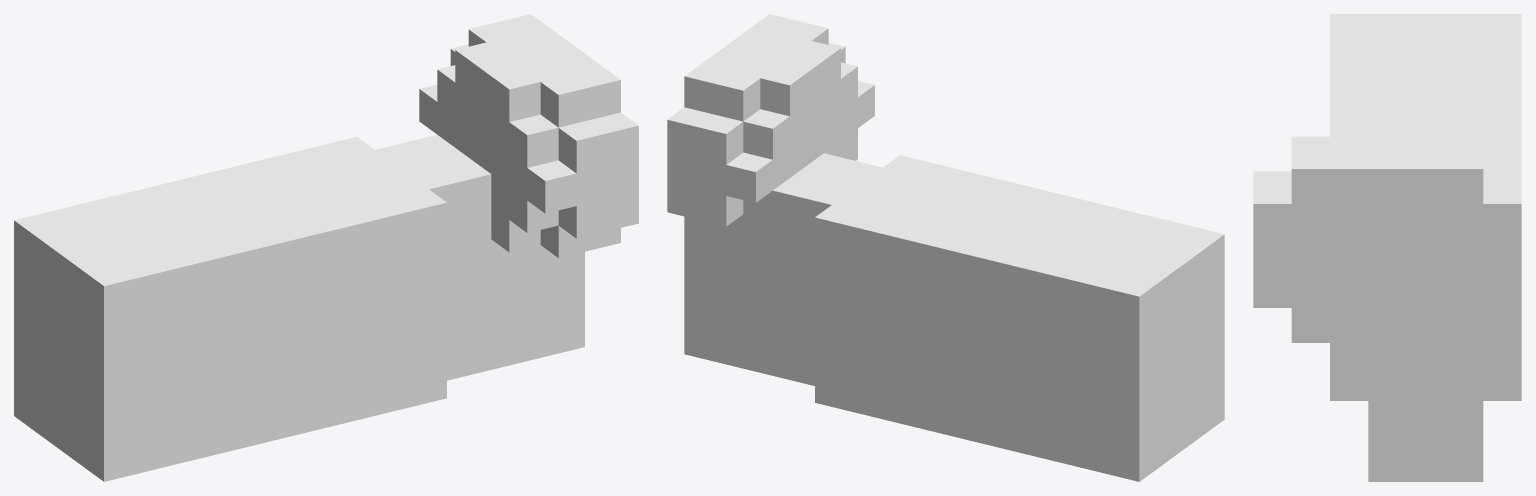
File: arm-upper-r.obj
The picture shows the model from 3 angles, left to right: view 1: azimuth 30°, elevation 25°; view 2: azimuth 150°, elevation 25°; view 3: azimuth 270°, elevation 25°; orthographic projection. The views are drawn at different scales.
Visible parts, largest first — view 1: _6; view 2: _6; view 3: _6.
Part boxes in pixels (x1,y1,x2,y2): _6: (14, 14, 638, 481); _6: (667, 14, 1224, 481); _6: (1253, 14, 1521, 481).
Size of the model in its own units: 16 by 9 by 7.
Materials: 1 (1 with a texture image).
